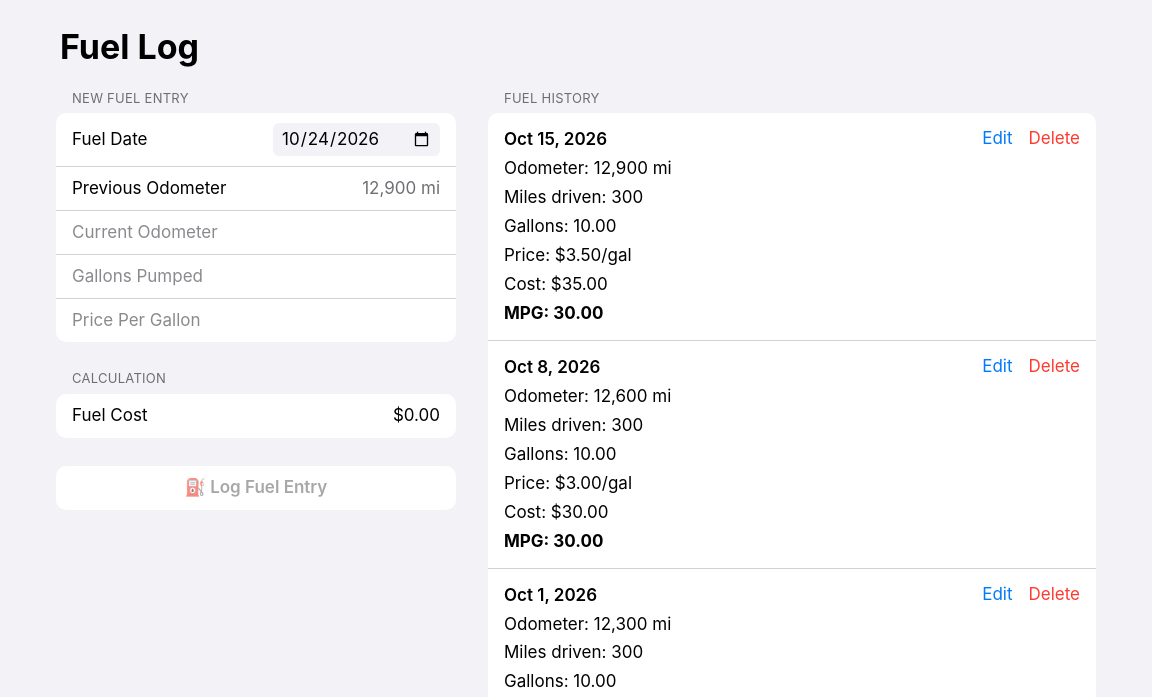
editing a log › edits a row in place and refreshes after saving
Expected: the text "Oct 15, 2026" is shown, [504,129,607,149]
Click the button with aria-label "Edit entry from Oct 1, 2026". click: (997, 594)
box: [982,579,1012,610]
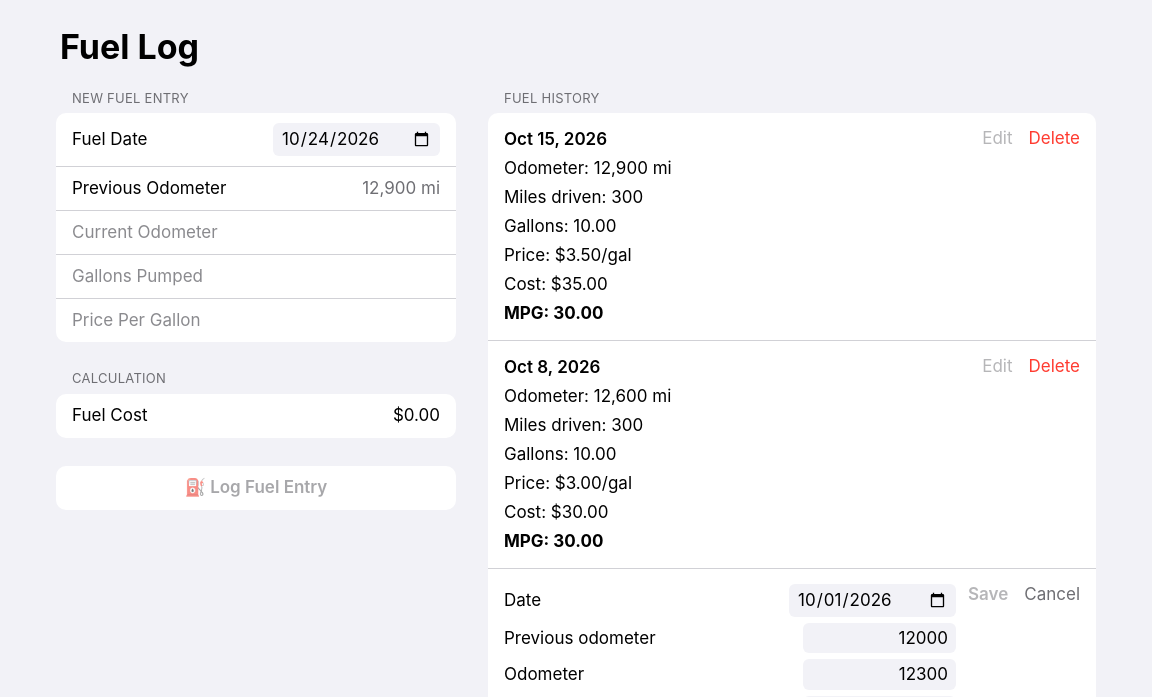
Result: the field labelled "Previous odometer" holds "12000" at [803,622,956,653]
Replace the text in the field labelled "Odometer" with "12600". click: (880, 675)
box: [803,659,956,690]
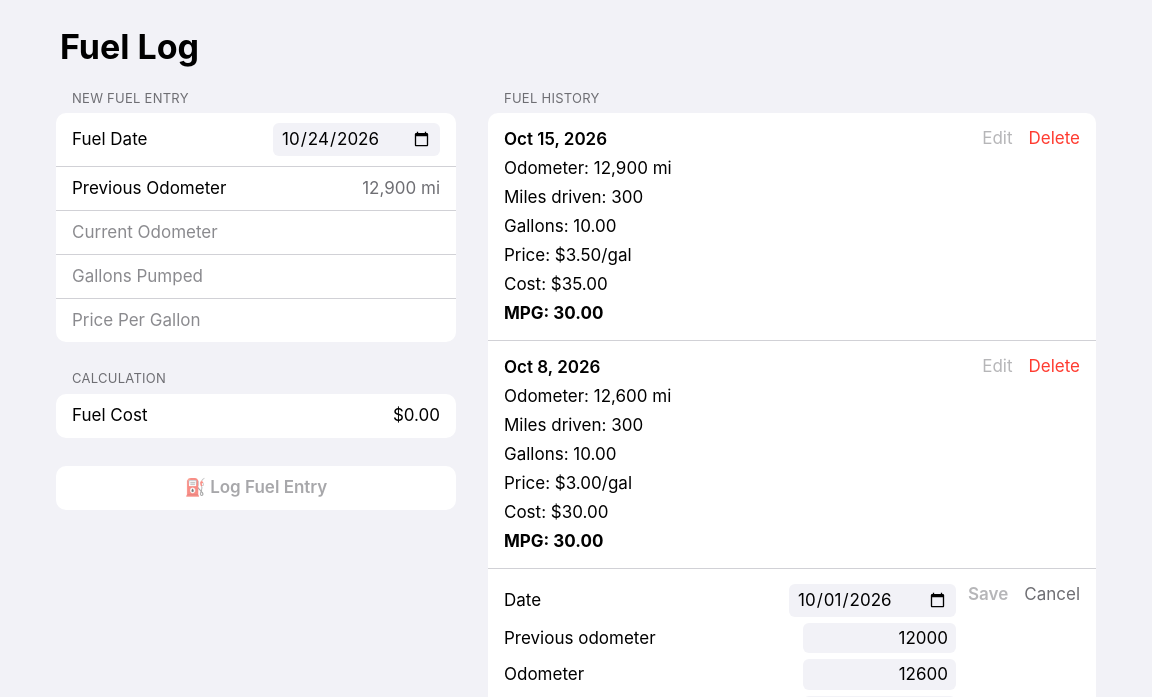
Result: the button with aria-label "Edit entry from Oct 8, 2026" is disabled at [982,351,1012,382]
Replace the text in the field labelled "Odometer" with "12400". click: (880, 675)
box: [803,659,956,690]
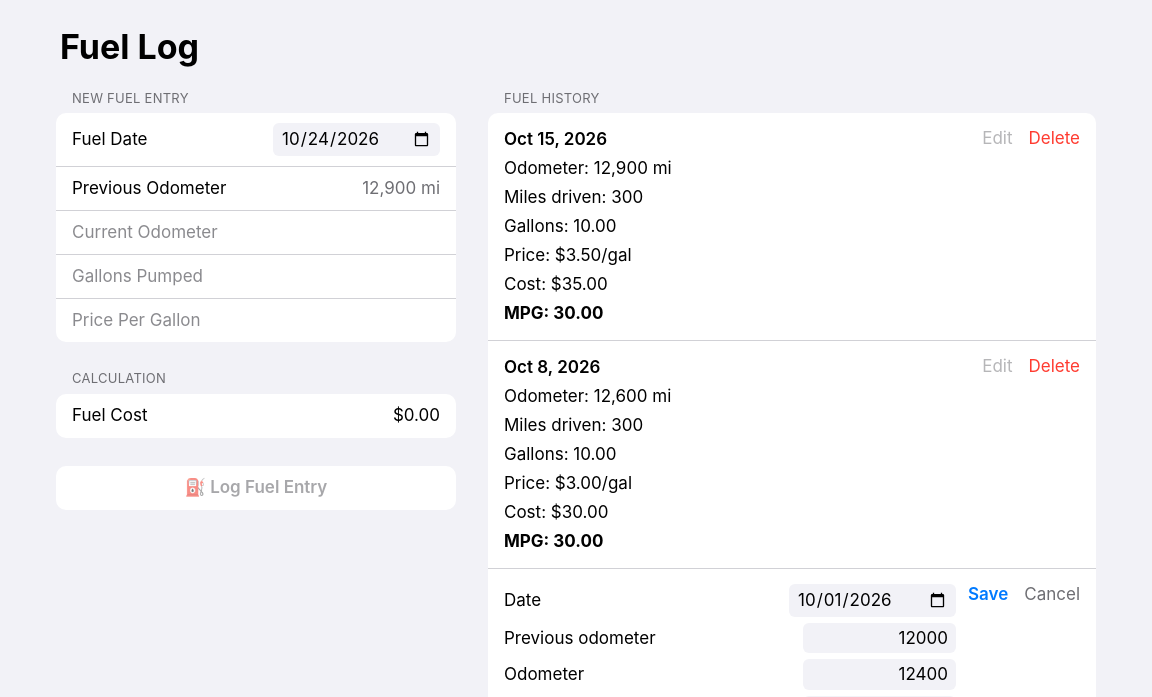
Click the button "Save". click: (988, 594)
box: [968,579,1008,610]
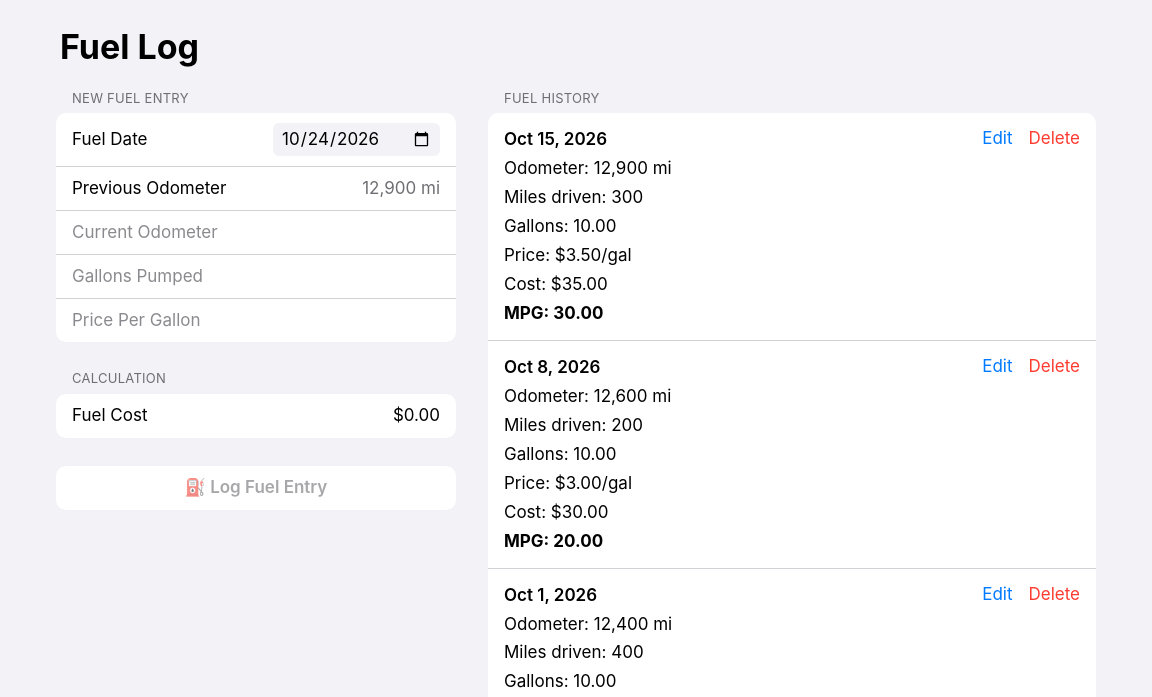
Result: the text "Odometer: 12,400 mi" is shown at [504,612,672,635]
Result: the text "Miles driven: 200" is shown at [504,415,643,435]
